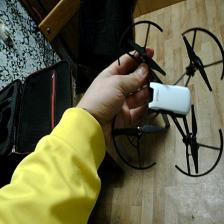drone: (111, 12, 224, 187)
